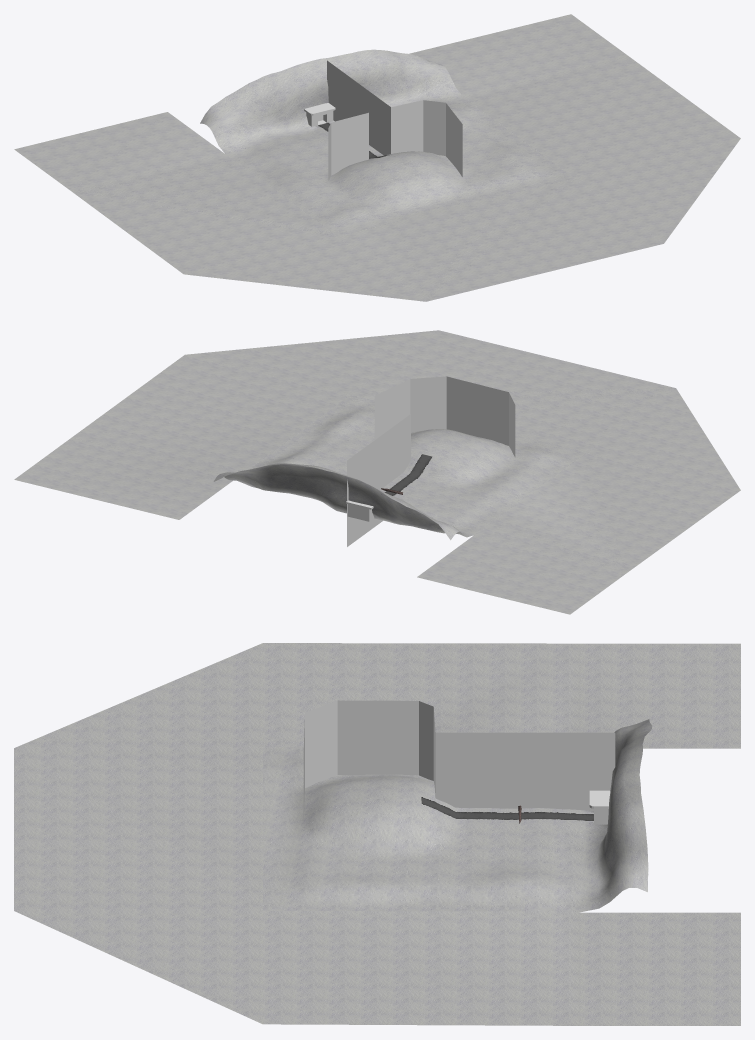
Rendered from terrain.glb.
3 views of the same model, one above another, from view 1: azimuth 30°, elevation 25°; view 2: azimuth 150°, elevation 25°; view 3: azimuth 270°, elevation 25° (orthographic). The views are drawn at different scales.
Visible parts, largest first — view 1: Plane.001, invisibleWalls, Cube; view 2: Plane.001, invisibleWalls, Plane; view 3: Plane.001, invisibleWalls, Plane, Cube.
Part boxes in pixels (bbox=[...]): Plane.001: bbox=[14, 14, 740, 301]; invisibleWalls: bbox=[327, 60, 462, 180]; Cube: bbox=[304, 103, 335, 126]; Plane.001: bbox=[14, 330, 740, 614]; invisibleWalls: bbox=[347, 376, 515, 546]; Plane: bbox=[383, 453, 434, 496]; Plane.001: bbox=[14, 643, 740, 1025]; invisibleWalls: bbox=[303, 700, 615, 820]; Plane: bbox=[421, 795, 593, 822]; Cube: bbox=[589, 790, 610, 824].
Bounding box in the file's own units: 251 × 37.38 × 202.
3 materials, 3 textured.
